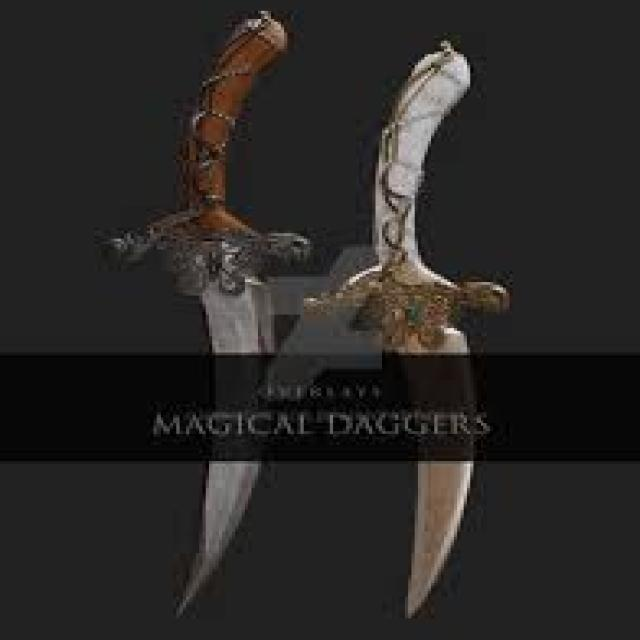Gun: (104, 0, 355, 569), (322, 56, 550, 606)
